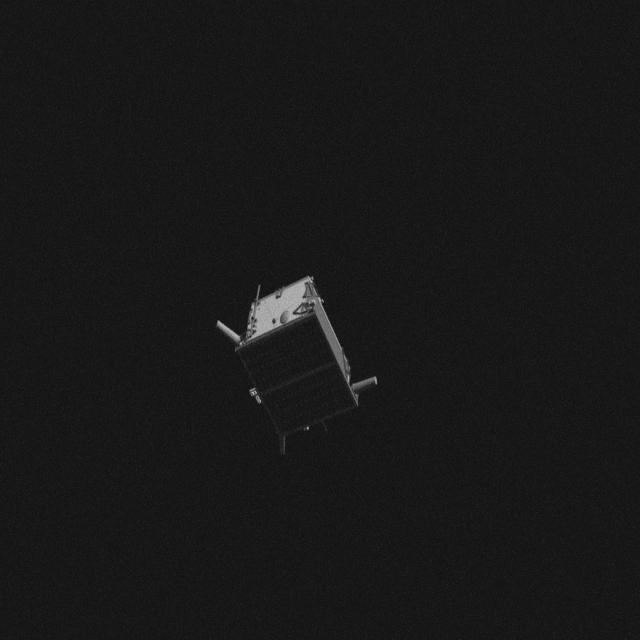satellite: (210, 268, 380, 454)
